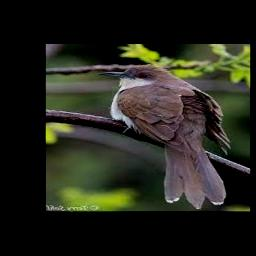Cuckoo: (99, 64, 232, 208)
